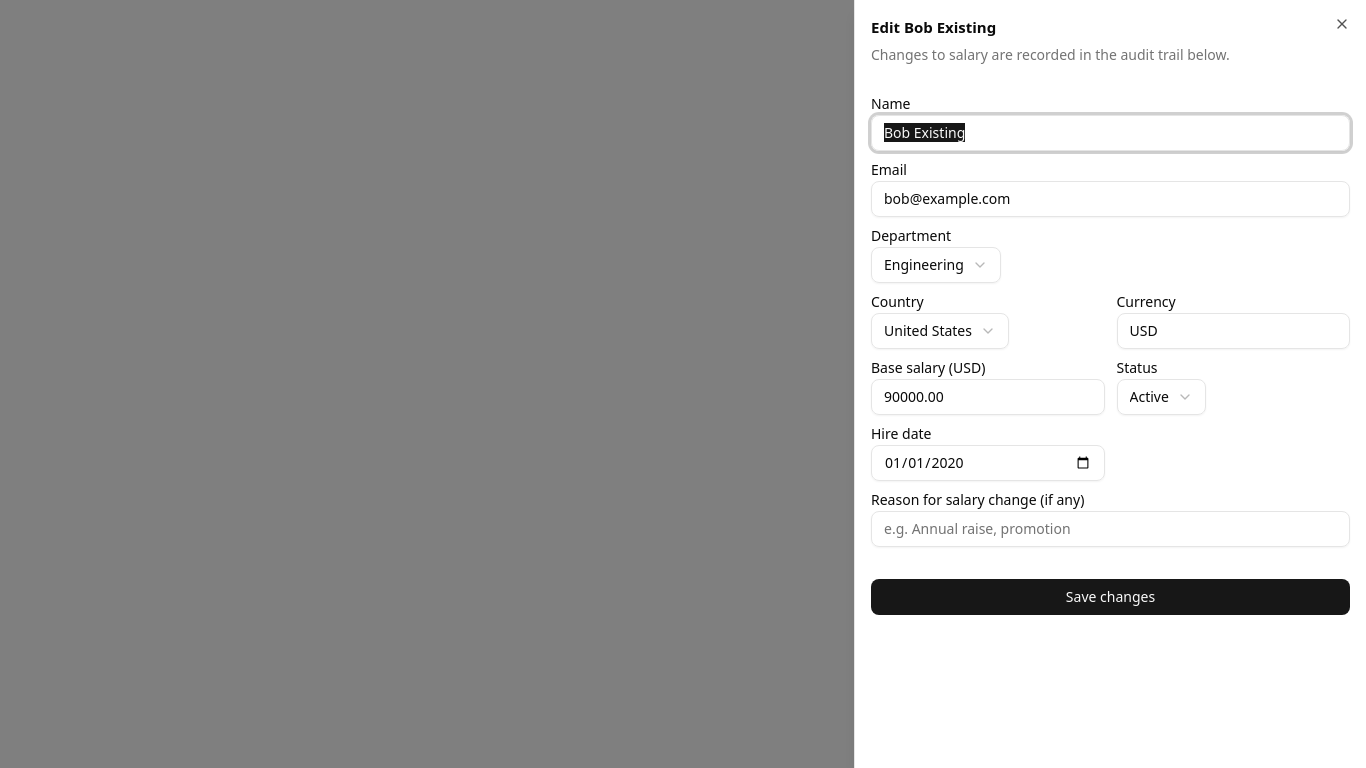
Test: EmployeeFormSheet › shows a conflict alert on a 409 and does not close the sheet
Click the button "Save changes" at [1110, 596], box [871,578,1350,614]
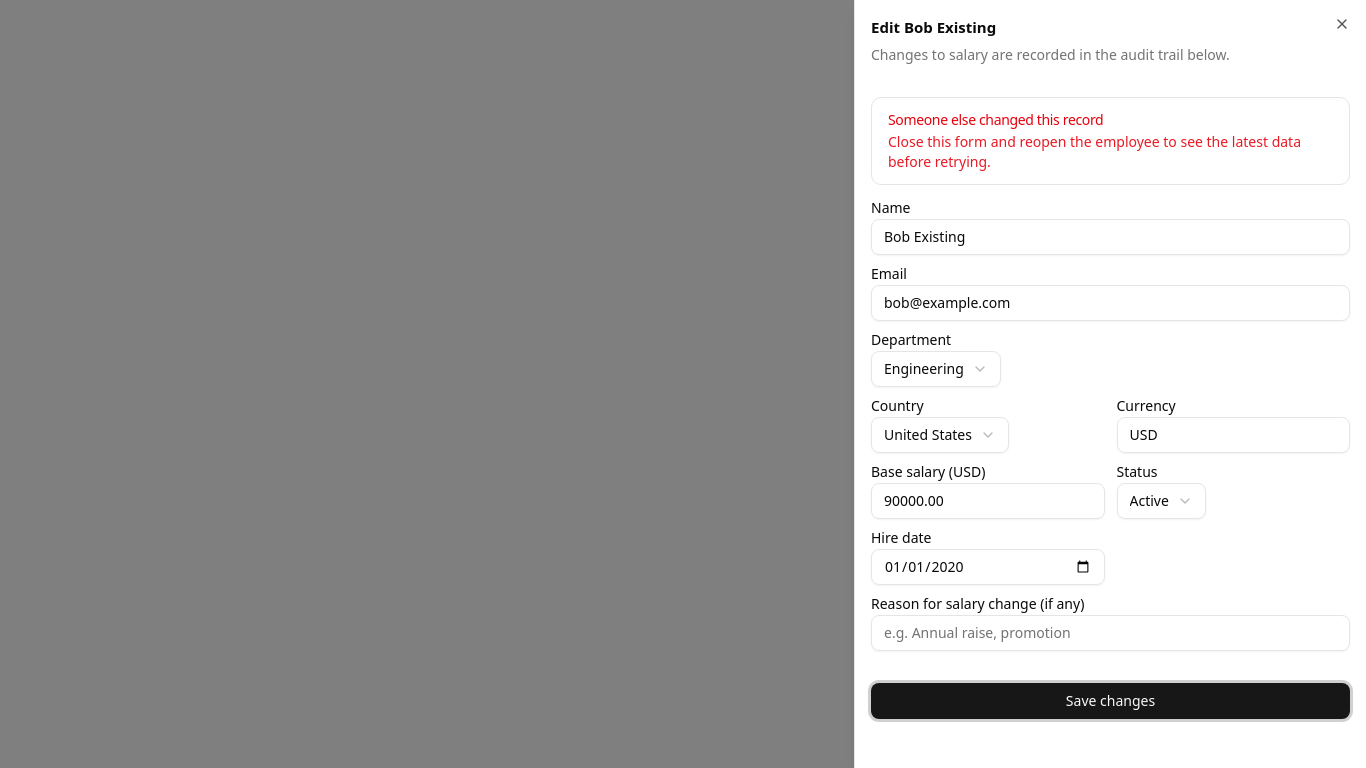
Result: the text "Someone else changed this record" is shown at [888,110,1103,128]
